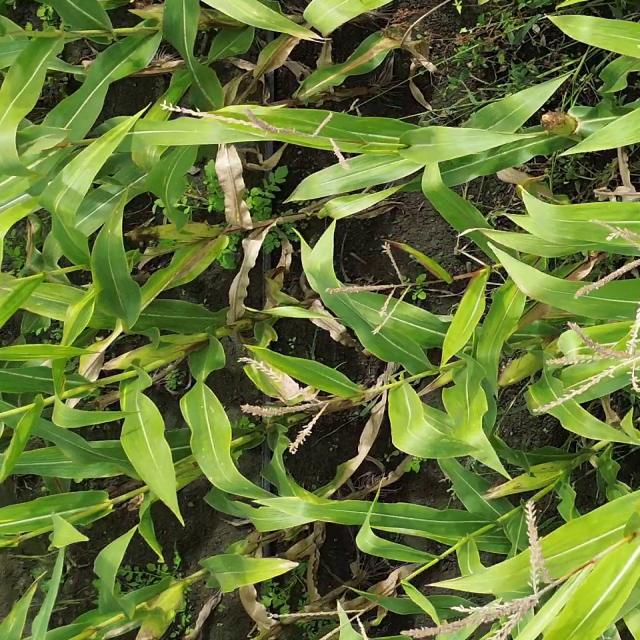gray-leaf-spot: (157, 146, 190, 184)
northern-leaf-blight: (323, 34, 388, 80), (168, 238, 225, 282), (68, 339, 118, 389)
